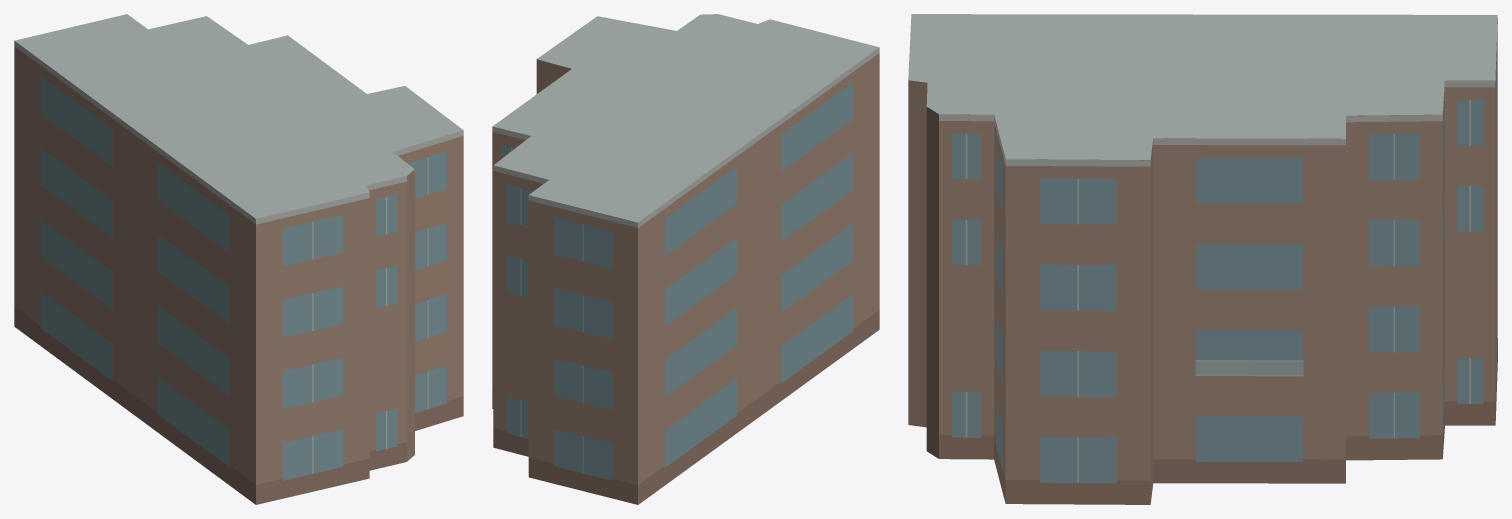
File: survey-upis-32779143.glb
3 renders of one model, left to right at view 1: azimuth 30°, elevation 25°; view 2: azimuth 150°, elevation 25°; view 3: azimuth 270°, elevation 25°, orthographic. The views are drawn at different scales.
Visible parts, largest first — view 1: survey-upis-32779143.tmp; view 2: survey-upis-32779143.tmp; view 3: survey-upis-32779143.tmp.
Part boxes in pixels (<box>): survey-upis-32779143.tmp: <box>14,14,463,504</box>; survey-upis-32779143.tmp: <box>492,14,879,504</box>; survey-upis-32779143.tmp: <box>908,14,1497,504</box>.
Bounding box in the file's own units: 11.46 × 12.6 × 19.54.
